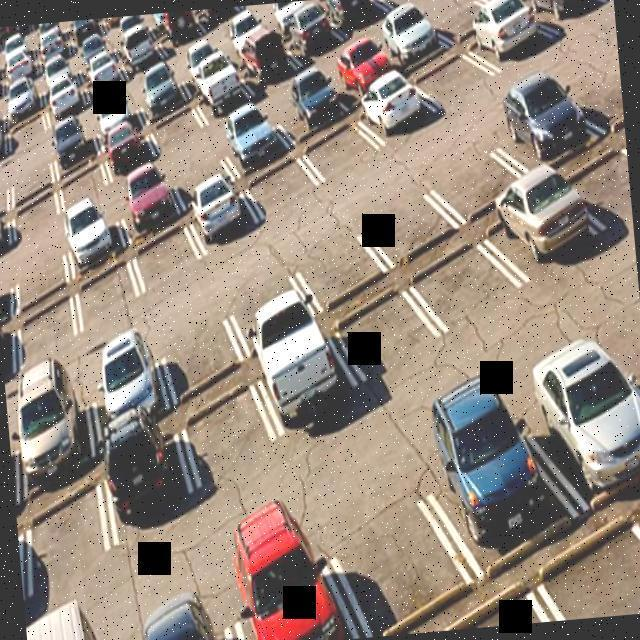car: (424, 417, 565, 542), (541, 350, 640, 507), (498, 188, 588, 280), (243, 562, 349, 640), (106, 438, 192, 527), (265, 339, 344, 422), (26, 399, 94, 482), (521, 95, 587, 165), (95, 346, 155, 414), (481, 2, 542, 64), (228, 114, 286, 178), (192, 188, 252, 248), (369, 78, 428, 134), (64, 214, 124, 268), (124, 179, 178, 238), (384, 14, 442, 67), (284, 80, 338, 136), (338, 49, 388, 104), (197, 70, 248, 122), (286, 12, 338, 61), (105, 128, 151, 174), (245, 42, 291, 88), (144, 76, 190, 118), (532, 0, 603, 24), (59, 131, 100, 172), (334, 0, 381, 31), (99, 103, 140, 138), (233, 26, 275, 56), (184, 47, 223, 79), (48, 88, 88, 114), (166, 22, 202, 50), (126, 38, 161, 66), (78, 46, 118, 70), (5, 88, 40, 115), (46, 68, 81, 92), (89, 61, 123, 85), (39, 41, 72, 62), (124, 28, 154, 50), (8, 58, 36, 80), (6, 40, 34, 62), (0, 130, 5, 159)
free: (344, 500, 453, 620), (426, 250, 504, 330), (197, 389, 268, 469), (376, 183, 444, 260), (310, 226, 376, 302), (28, 504, 101, 572), (421, 44, 494, 110), (344, 311, 428, 367), (167, 323, 230, 395), (72, 256, 138, 324), (234, 269, 296, 341), (446, 148, 510, 217), (310, 116, 377, 180), (252, 158, 314, 220), (15, 304, 79, 362), (576, 158, 632, 222), (12, 246, 70, 306), (139, 225, 189, 292), (178, 144, 231, 202), (153, 106, 200, 156), (62, 166, 105, 210), (15, 194, 58, 237), (14, 157, 55, 198), (8, 110, 49, 138)
